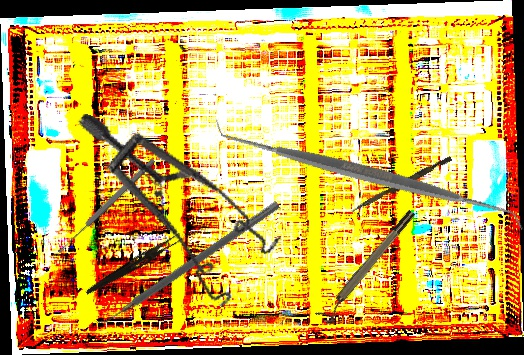Dressing Forceps: (84, 229, 184, 300)
Fixation Ring: (315, 207, 422, 327)
Pusher: (350, 153, 453, 217)
Spatula Surgical: (214, 21, 524, 329), (92, 193, 281, 333)
Speculum: (39, 112, 301, 318)
Surgical Spoon: (55, 157, 157, 255)
